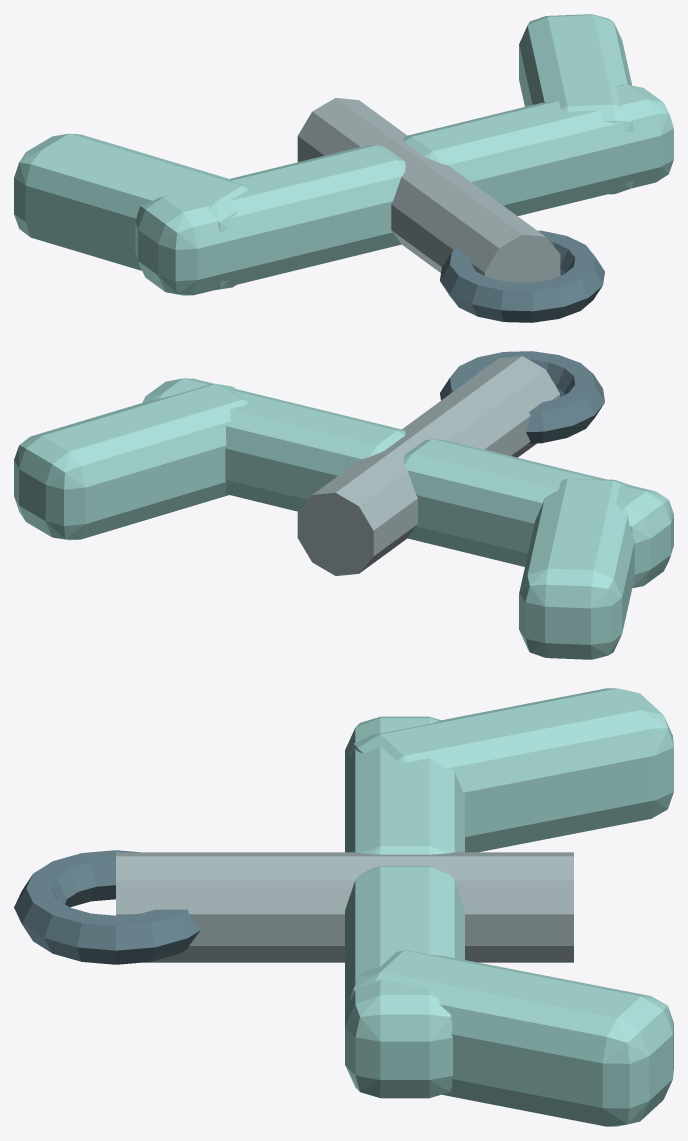
Rendered from weapon_1.glb.
3 views of the same model, one above another, from view 1: azimuth 30°, elevation 25°; view 2: azimuth 150°, elevation 25°; view 3: azimuth 270°, elevation 25° (orthographic). The views are drawn at different scales.
Parts seen in each view (by area): view 1: weapon_1_Enamel_jade, weapon_1_Ocean_basalt, weapon_1_Deep_ocean_rubber; view 2: weapon_1_Enamel_jade, weapon_1_Ocean_basalt, weapon_1_Deep_ocean_rubber; view 3: weapon_1_Enamel_jade, weapon_1_Ocean_basalt, weapon_1_Deep_ocean_rubber.
Boxes of the visible parts, x1,y1,x2,y2 form: weapon_1_Enamel_jade: (14,14,673,295); weapon_1_Ocean_basalt: (297,98,560,282); weapon_1_Deep_ocean_rubber: (440,230,604,322); weapon_1_Enamel_jade: (14,378,673,659); weapon_1_Ocean_basalt: (297,356,560,575); weapon_1_Deep_ocean_rubber: (440,351,604,443); weapon_1_Enamel_jade: (345,688,673,1126); weapon_1_Ocean_basalt: (116,852,573,962); weapon_1_Deep_ocean_rubber: (14,850,200,964).
Bounding box in the file's own units: 1.2 × 0.17 × 0.9367.
